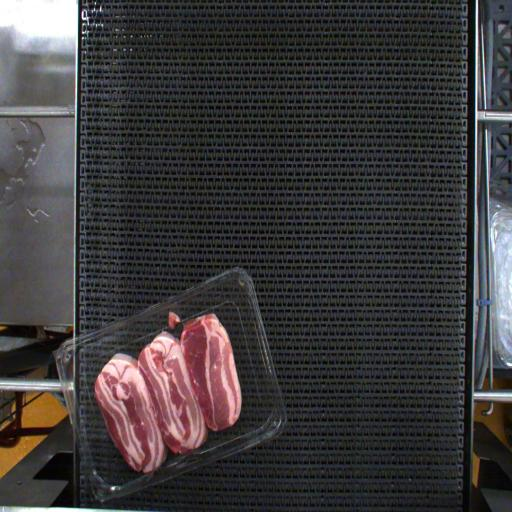packaging-error: (159, 304, 194, 336)
